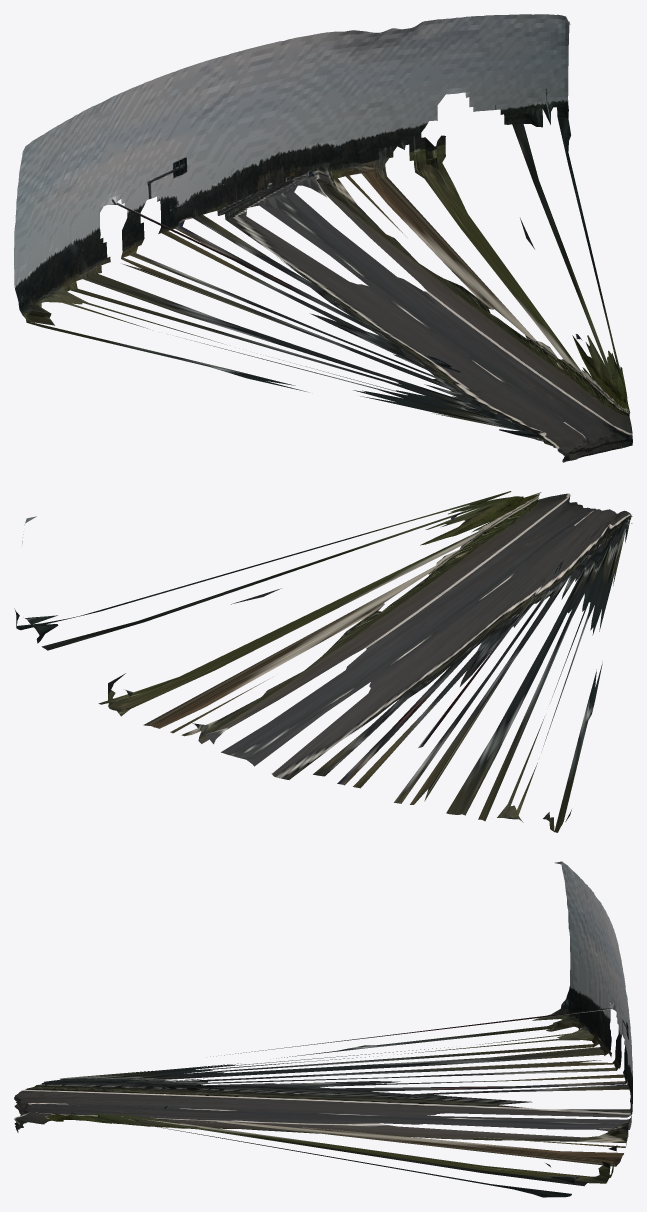
3 renders of one model, top to bottom at view 1: azimuth 30°, elevation 25°; view 2: azimuth 150°, elevation 25°; view 3: azimuth 270°, elevation 25°, orthographic. The views are drawn at different scales.
Parts seen in each view (by area): view 1: defaultobject; view 2: defaultobject; view 3: defaultobject.
Boxes of the visible parts, x1,y1,x2,y2 form: defaultobject: (14, 14, 632, 462); defaultobject: (14, 491, 632, 832); defaultobject: (14, 861, 632, 1197).
Bounding box in the file's own units: 41.09 × 13.57 × 44.18.
Materials: 1 (1 with a texture image).
